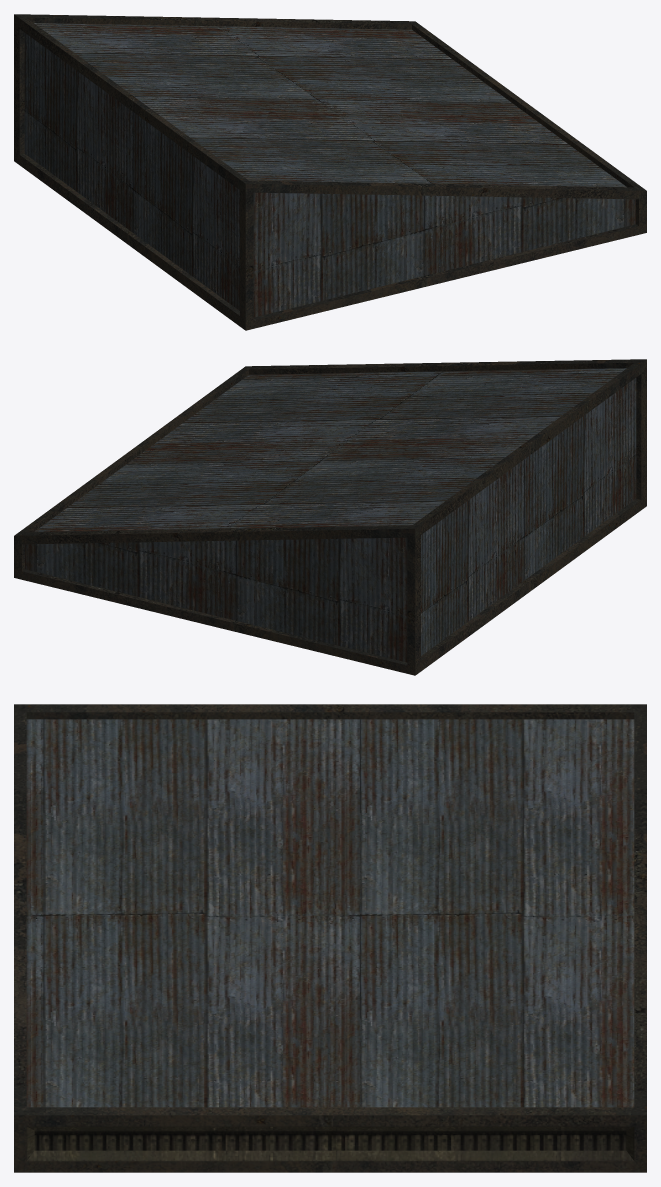
Rendered from roof_mh_2.dae.
The picture shows the model from 3 angles, top to bottom: view 1: azimuth 30°, elevation 25°; view 2: azimuth 150°, elevation 25°; view 3: azimuth 270°, elevation 25°; orthographic projection. The views are drawn at different scales.
Parts seen in each view (by area): view 1: roof_mh_2; view 2: roof_mh_2; view 3: roof_mh_2.
Boxes of the visible parts, x1,y1,x2,y2 form: roof_mh_2: (14, 14, 646, 330); roof_mh_2: (14, 359, 646, 675); roof_mh_2: (14, 704, 646, 1172).
Size of the model in its own units: 4 by 4 by 1.4.
Materials: 5 (5 with a texture image).
